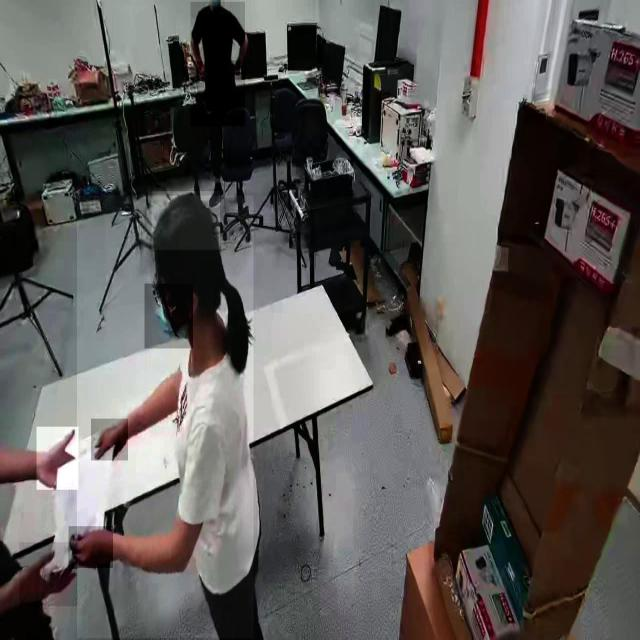face_mask: (145, 284, 193, 348)
hand_noglove: (20, 542, 78, 607), (37, 426, 79, 491), (68, 526, 114, 569), (91, 419, 129, 461), (225, 60, 241, 76), (196, 61, 208, 82)
head_nohelmet: (152, 191, 220, 251)
person: (77, 196, 254, 639), (190, 2, 246, 127)
